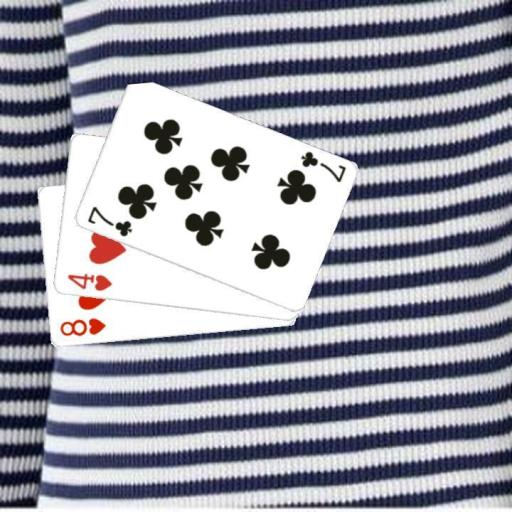card-corner: (297, 148, 347, 184), (84, 203, 134, 238), (56, 315, 108, 339), (64, 270, 113, 293)
